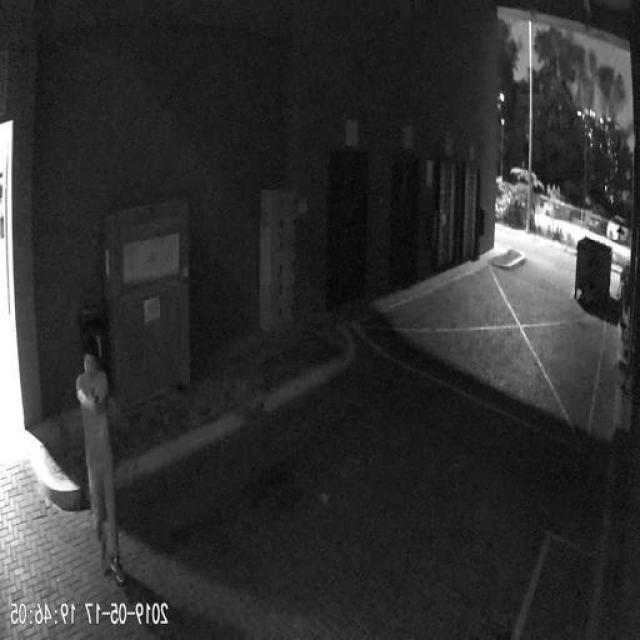weapon: (92, 395, 108, 411)
